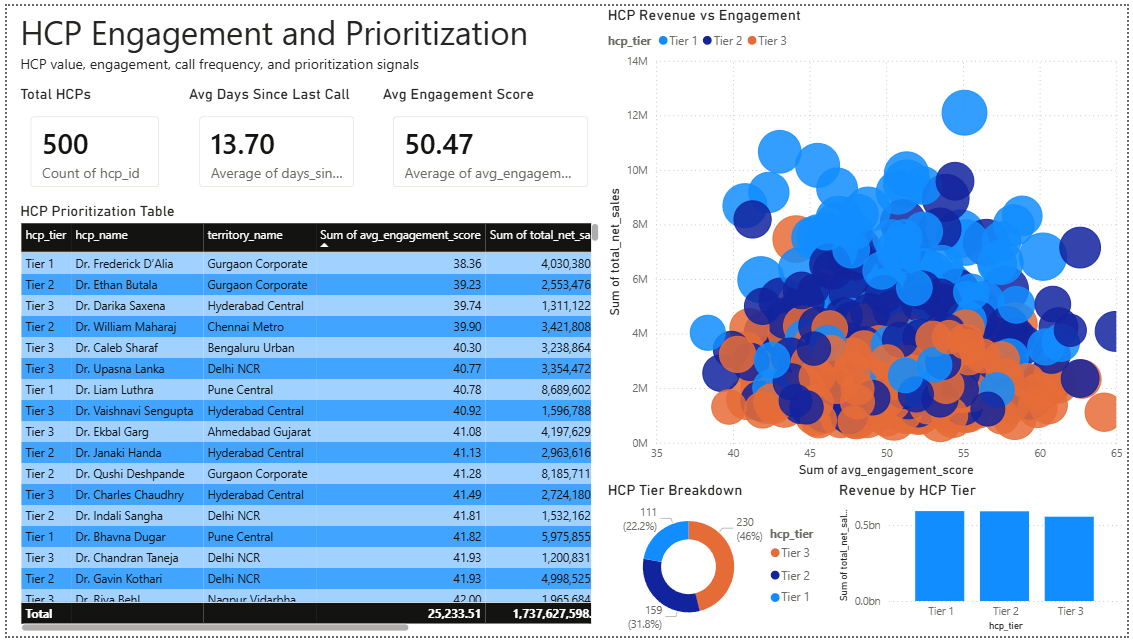

The page's visual inventory and layout, read from the dashboard file:
{"tool":"powerbi","page":{"name":"HCP Engagement and Prioritization","canvas":[1280,720],"ordinal":2},"visuals":[{"type":"textbox","box":[10,0,598.6,90],"z":0},{"type":"cardVisual","title":"Total HCPs","fields":{"Data":["Count(public vw_hcp_engagement_summary.hcp_id)"]},"box":[10,90,181.4,134.3],"z":1},{"type":"cardVisual","title":"Avg Engagement Score","fields":{"Data":["Avg(public vw_hcp_engagement_summary.avg_engagement_score)"]},"box":[424.3,90,257.1,134.3],"z":2},{"type":"cardVisual","title":"Avg Days Since Last Call","fields":{"Data":["Avg(public vw_hcp_engagement_summary.days_since_last_call)"]},"box":[202.9,90,211.4,134.3],"z":3},{"type":"donutChart","title":"HCP Tier Breakdown","fields":{"Category":["public vw_hcp_engagement_summary.hcp_tier"],"Y":["Count(public vw_hcp_engagement_summary.hcp_id)"]},"box":[681.4,542.9,264.3,177.1],"z":4},{"type":"clusteredColumnChart","title":"Revenue by HCP Tier","fields":{"Category":["public vw_hcp_engagement_summary.hcp_tier"],"Y":["Sum(public vw_hcp_engagement_summary.total_net_sales)"]},"box":[945.7,542.9,334.3,177.1],"z":5},{"type":"scatterChart","title":"HCP Revenue vs Engagement","fields":{"X":["Sum(public vw_hcp_engagement_summary.avg_engagement_score)"],"Y":["Sum(public vw_hcp_engagement_summary.total_net_sales)"],"Series":["public vw_hcp_engagement_summary.hcp_tier"],"Size":["Sum(public vw_hcp_engagement_summary.total_calls)"],"Category":["public vw_hcp_engagement_summary.hcp_name"]},"box":[681.4,0,598.6,542.9],"z":6},{"type":"tableEx","title":"HCP Prioritization Table","fields":{"Values":["public vw_hcp_engagement_summary.hcp_tier","public vw_hcp_engagement_summary.hcp_name","public vw_hcp_engagement_summary.territory_name","Sum(public vw_hcp_engagement_summary.avg_engagement_score)","Sum(public vw_hcp_engagement_summary.total_net_sales)","Sum(public vw_hcp_engagement_summary.total_calls)","Sum(public vw_hcp_engagement_summary.days_since_last_call)"]},"box":[10,224.3,671.4,495.7],"z":7}]}

Visuals, with their boxes in screenshot pixels (x1, y1, x2, y2), scaled from the page's 1280x720 canvas onto the 1133x640 screenshot:
textbox: x1=9 y1=0 x2=539 y2=80
"Total HCPs" cardVisual: x1=9 y1=80 x2=169 y2=199
"Avg Engagement Score" cardVisual: x1=376 y1=80 x2=603 y2=199
"Avg Days Since Last Call" cardVisual: x1=180 y1=80 x2=367 y2=199
"HCP Tier Breakdown" donutChart: x1=603 y1=483 x2=837 y2=639
"Revenue by HCP Tier" clusteredColumnChart: x1=837 y1=483 x2=1132 y2=639
"HCP Revenue vs Engagement" scatterChart: x1=603 y1=0 x2=1132 y2=483
"HCP Prioritization Table" tableEx: x1=9 y1=199 x2=603 y2=639
